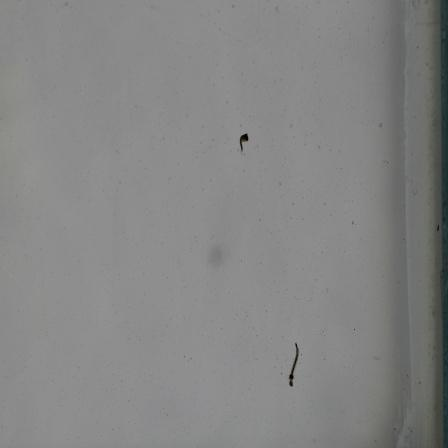Jentik-Nyamuk: (285, 340, 302, 388), (236, 130, 252, 152)
